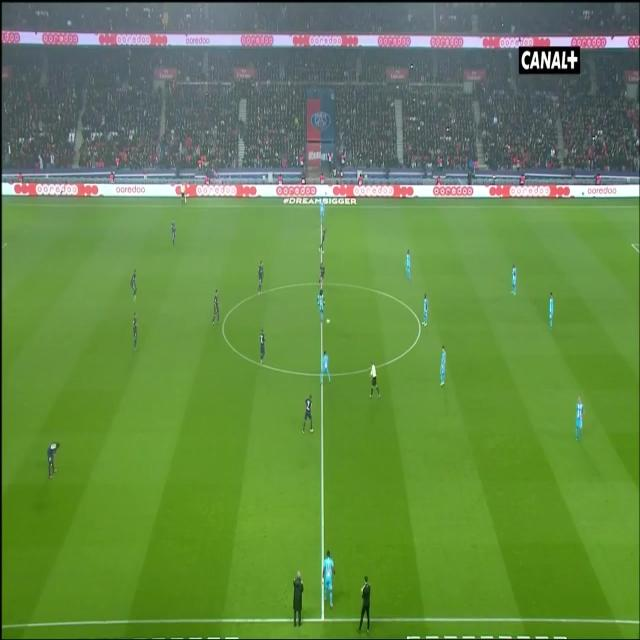Ball: (325, 316, 330, 326)
Player: (322, 550, 337, 610), (45, 437, 62, 482), (300, 393, 316, 437), (574, 394, 586, 441), (320, 348, 331, 389), (438, 344, 448, 389), (257, 327, 268, 367), (131, 308, 140, 353), (420, 290, 430, 330), (256, 258, 266, 297), (316, 287, 327, 320), (211, 288, 220, 328), (318, 225, 328, 258), (129, 268, 138, 303), (510, 262, 518, 300), (319, 260, 327, 295), (404, 249, 412, 284), (548, 287, 554, 328), (170, 217, 177, 248), (319, 196, 326, 227)
Referee: (368, 358, 382, 402), (180, 182, 188, 210)
